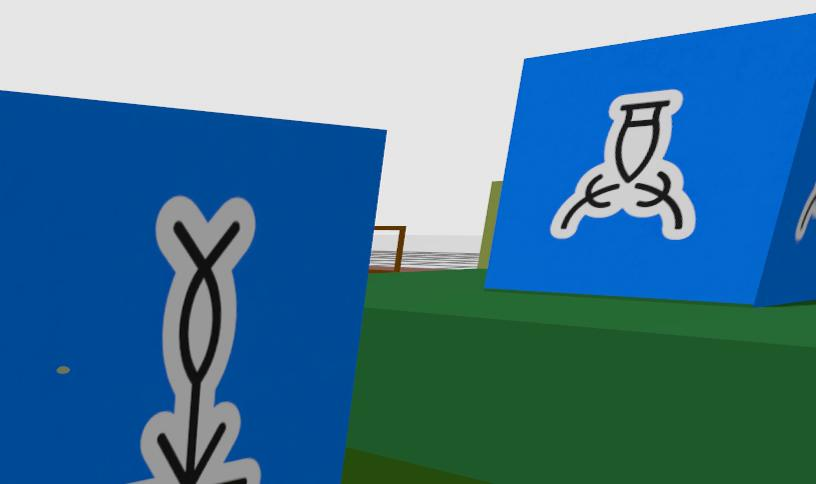KFS_REAL: (0, 91, 384, 484), (486, 14, 815, 306), (128, 196, 259, 484), (550, 92, 694, 238)
